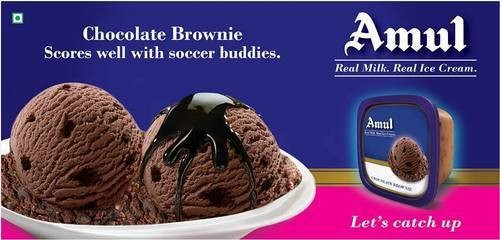Amul: (328, 7, 477, 58), (363, 111, 399, 130)
